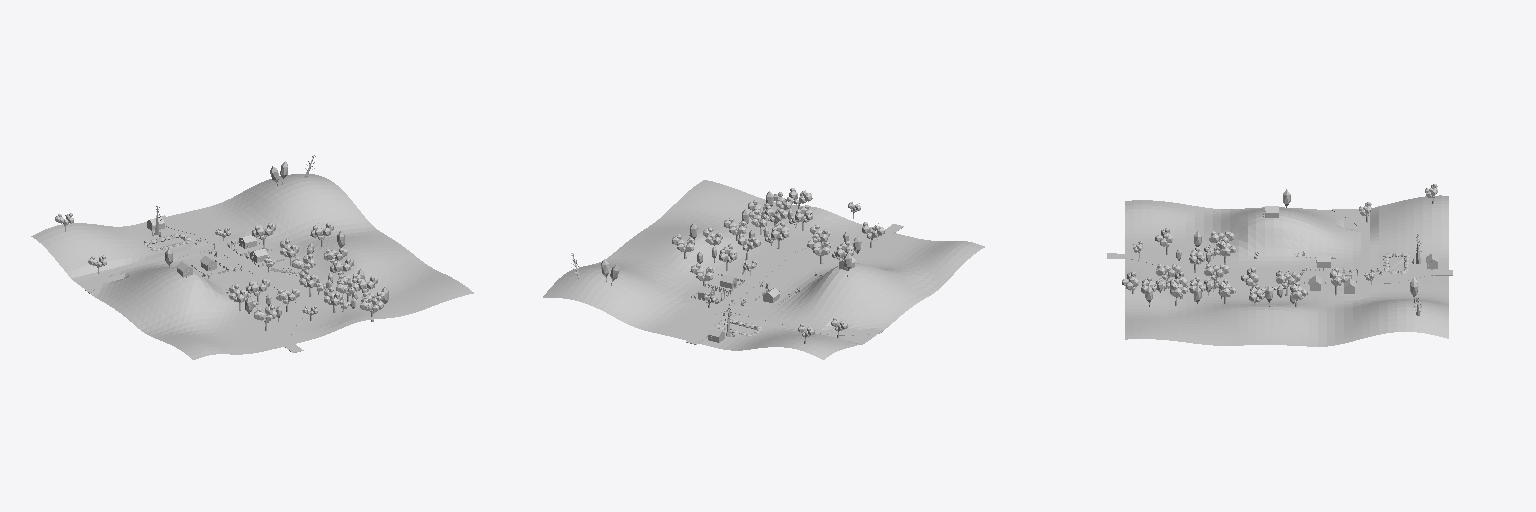
Rendered from cLand2.obj.
3 renders of one model, left to right at view 1: azimuth 30°, elevation 25°; view 2: azimuth 150°, elevation 25°; view 3: azimuth 270°, elevation 25°, orthographic.
Visible parts, largest first — view 1: Landscape_Plane_Landscape, Road_Cube.001_Road; view 2: Landscape_Plane_Landscape, Road_Cube.001_Road; view 3: Landscape_Plane_Landscape, Road_Cube.001_Road.
Boxes of the visible parts, box(x1,y1,x2,y2) form: Landscape_Plane_Landscape: box(31, 174, 473, 359); Road_Cube.001_Road: box(85, 215, 308, 352); Landscape_Plane_Landscape: box(543, 180, 984, 359); Road_Cube.001_Road: box(682, 224, 903, 344); Landscape_Plane_Landscape: box(1125, 195, 1448, 346); Road_Cube.001_Road: box(1107, 209, 1452, 299).
Bounding box in the file's own units: 70.18 × 12.52 × 74.69.